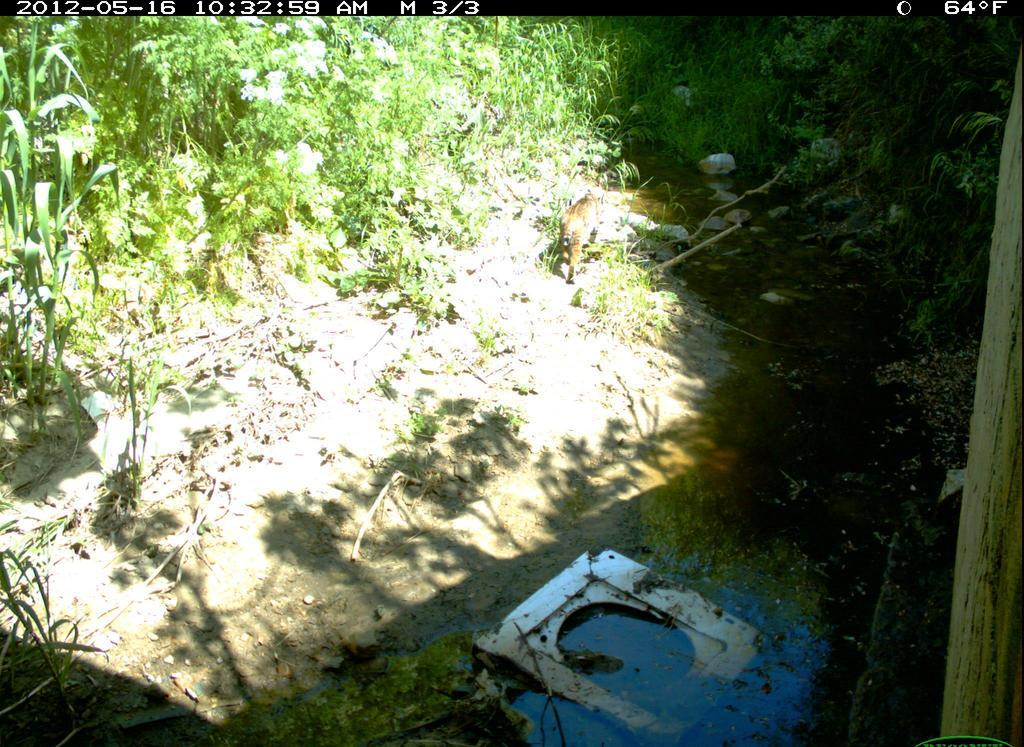bobcat: (551, 187, 632, 290)
